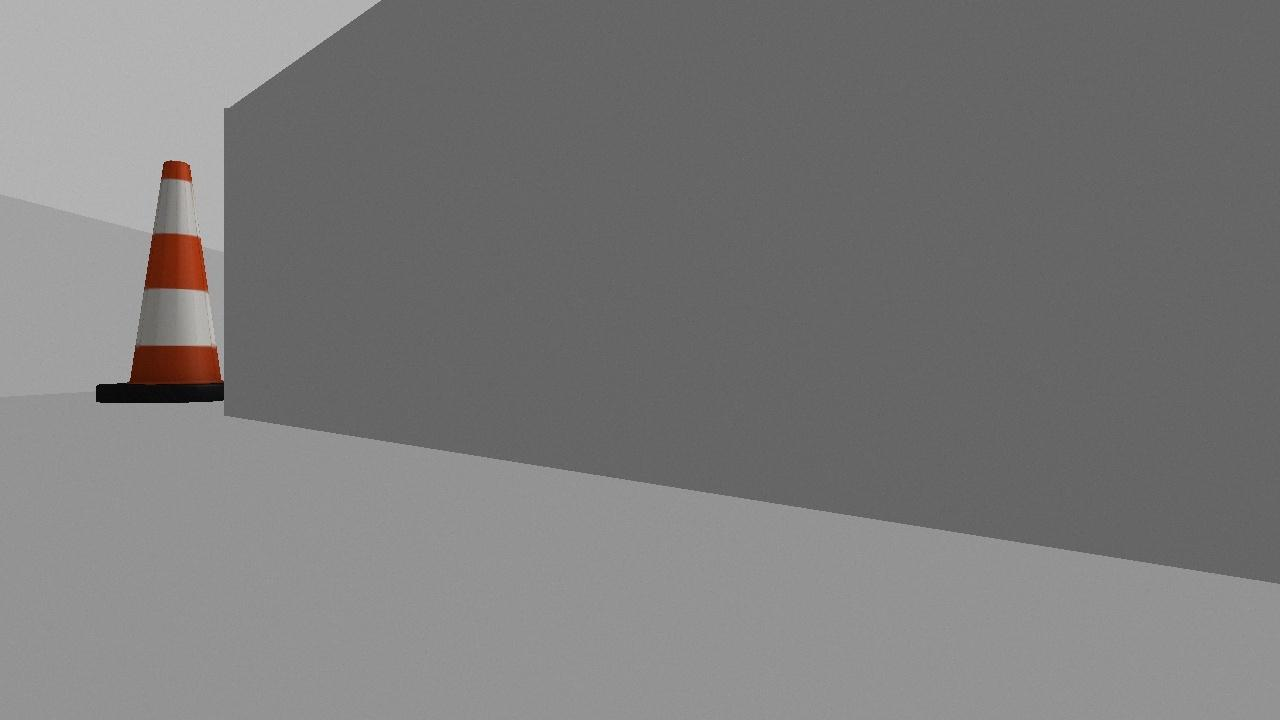cone_barrel: (91, 151, 238, 404)
